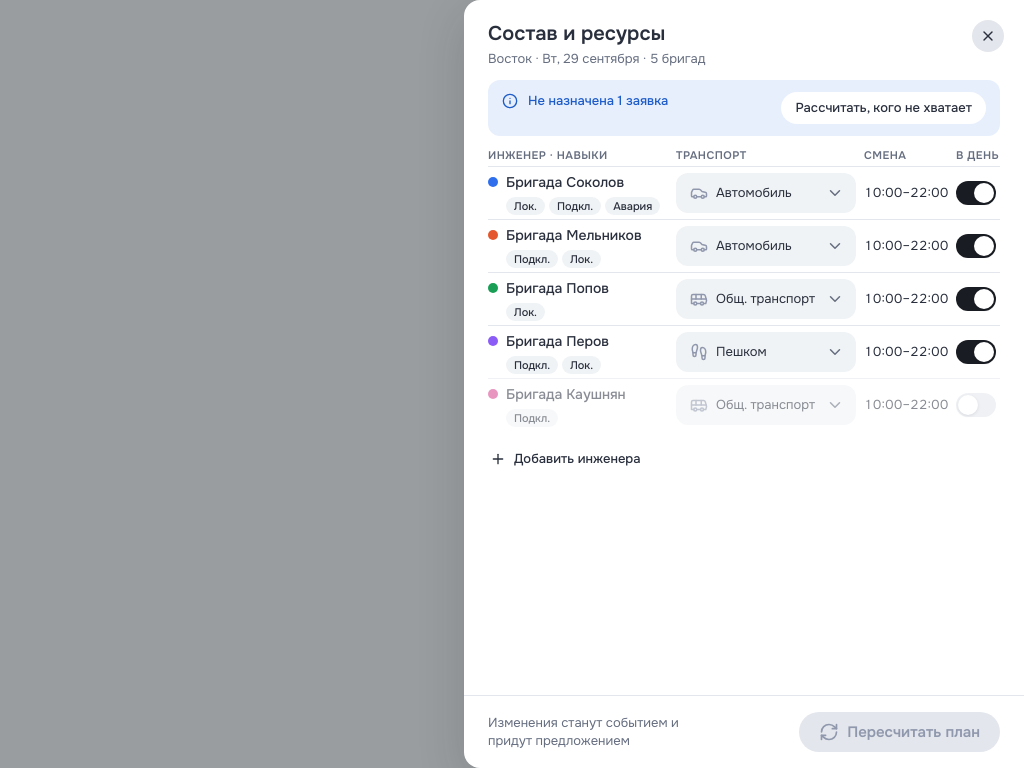
Test: DS-09 «Состав и ресурсы» › P1-5: расчёт без сохранения → «Добавить такую бригаду» — форма уже заполнена
Click the button "Рассчитать, кого не хватает": point(884, 108) left=781, top=92, right=986, bottom=124
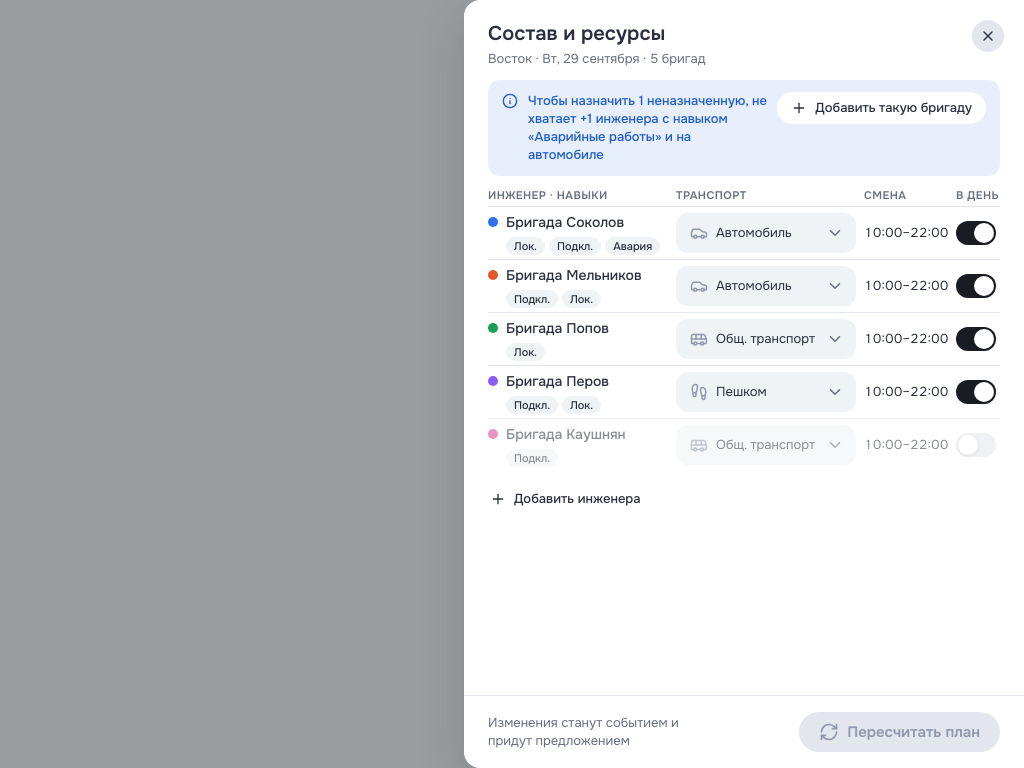
Result: the text "Чтобы назначить 1 неназначенную" is shown at left=528, top=92, right=767, bottom=163
Click the button "Добавить такую бригаду": point(882, 108) left=777, top=92, right=986, bottom=124
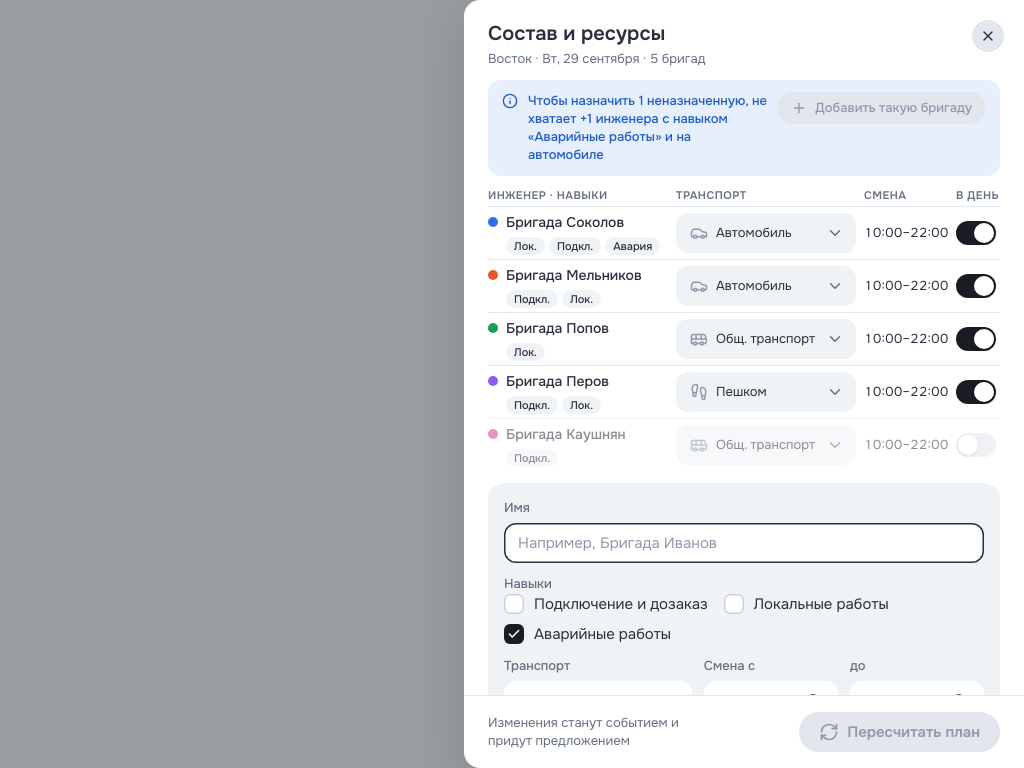
Result: the checkbox labelled "Аварийные работы" is checked at left=504, top=623, right=671, bottom=645
Result: the checkbox labelled "Локальные работы" is not checked at left=724, top=593, right=889, bottom=615
